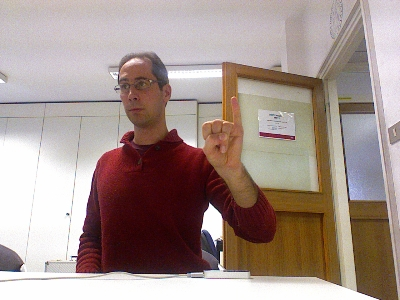小指: (200, 94, 244, 171)
